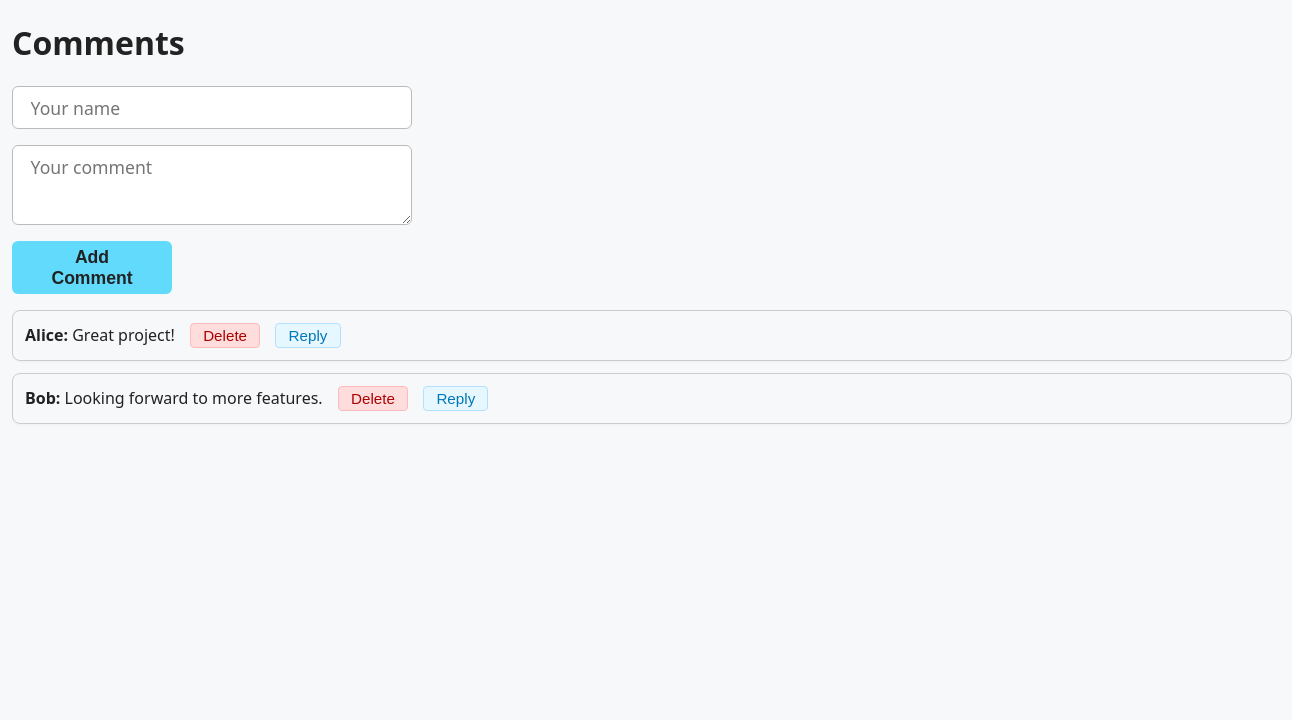
Scenario: allows a user to write a reply to a comment
The width and height of the screenshot is (1292, 720).
Click the button "Reply" in the row of "Alice" at point(308, 336), box [275,323,341,348]
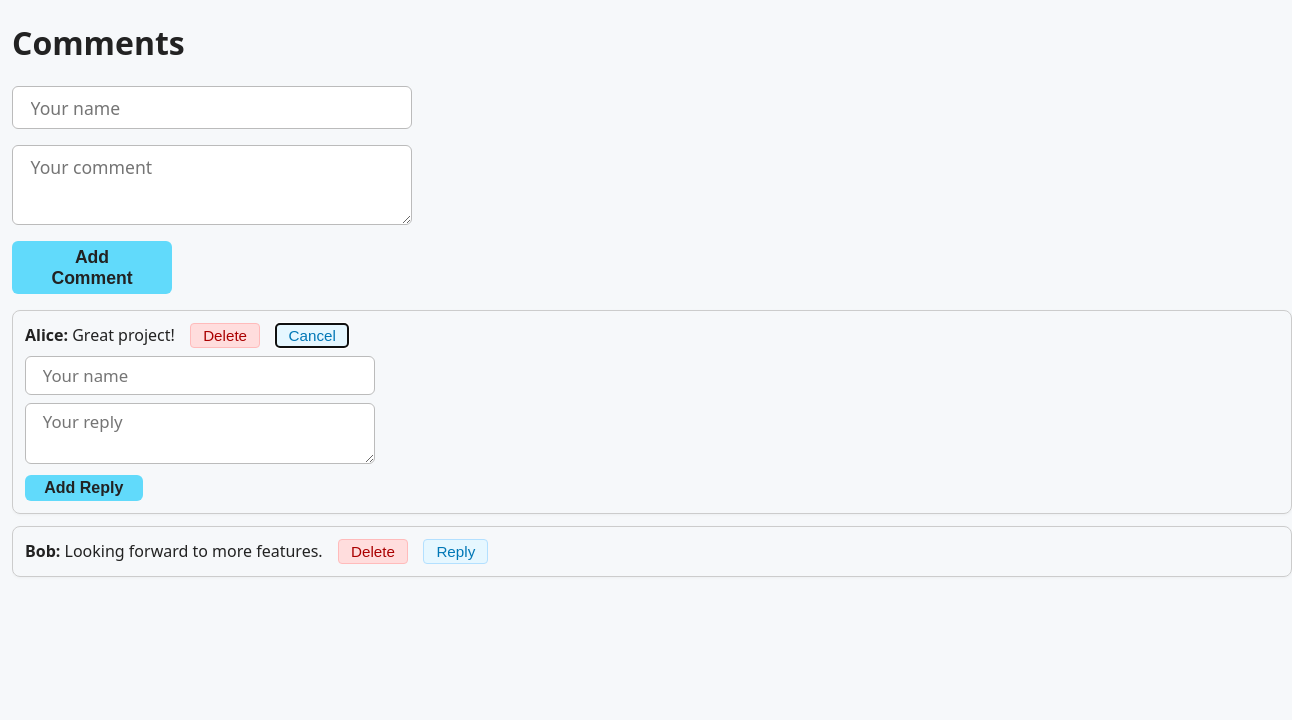
Type "Dora" into the field with placeholder "Your name" below "Alice" at point(200, 375), box [25,356,375,394]
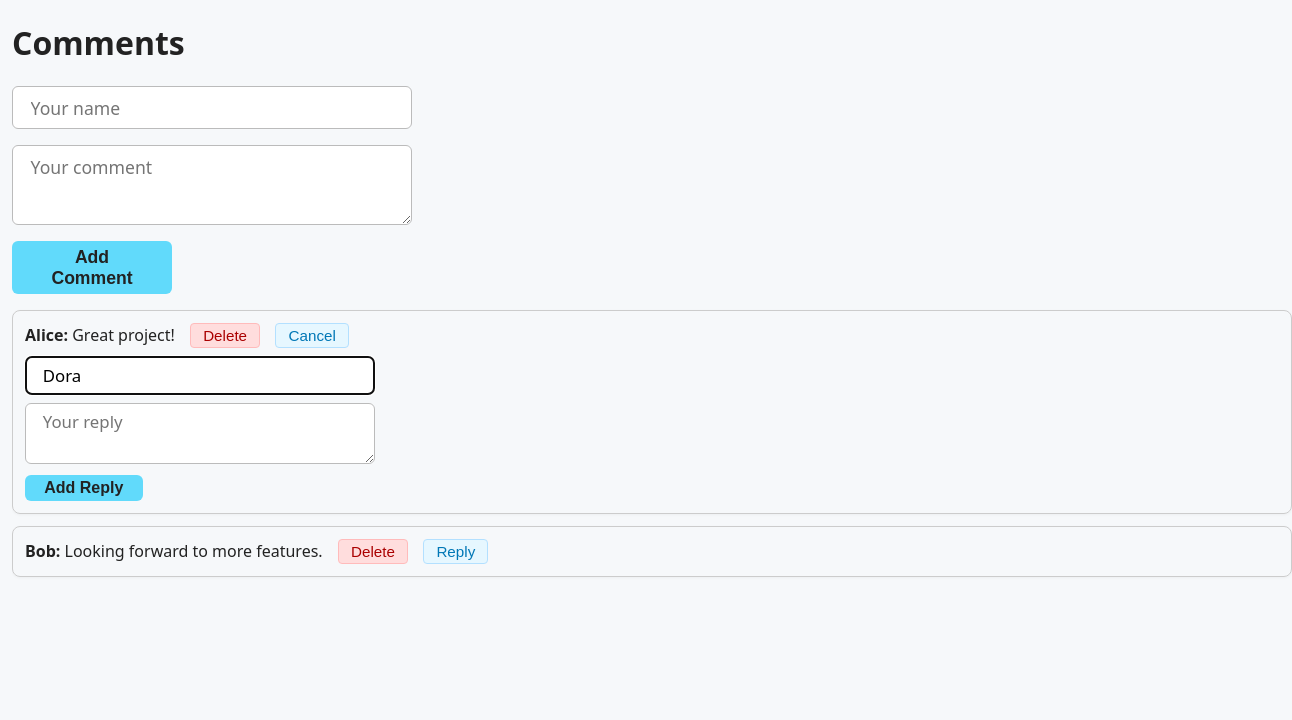
Type "This is a reply." into the text box with placeholder "Your reply" at point(200, 433), box [25,402,375,464]
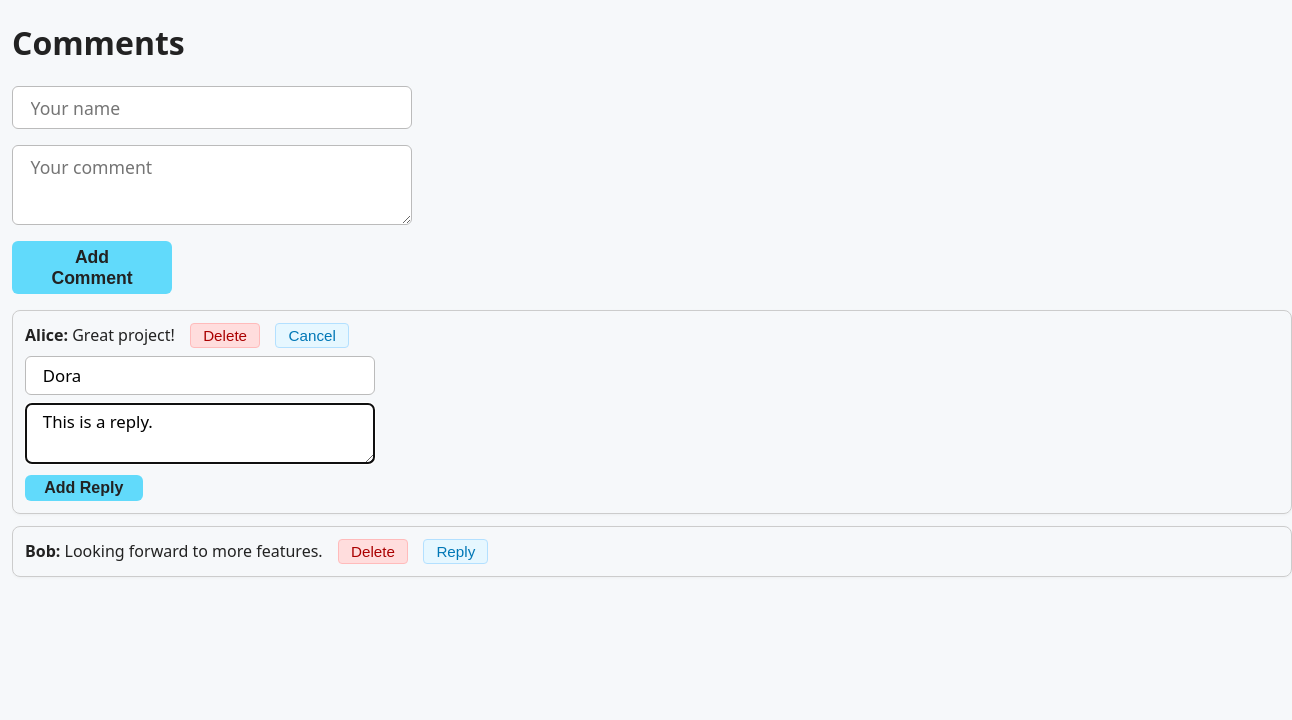
Click the button "Add Reply" at point(84, 488), box [25,475,142,501]
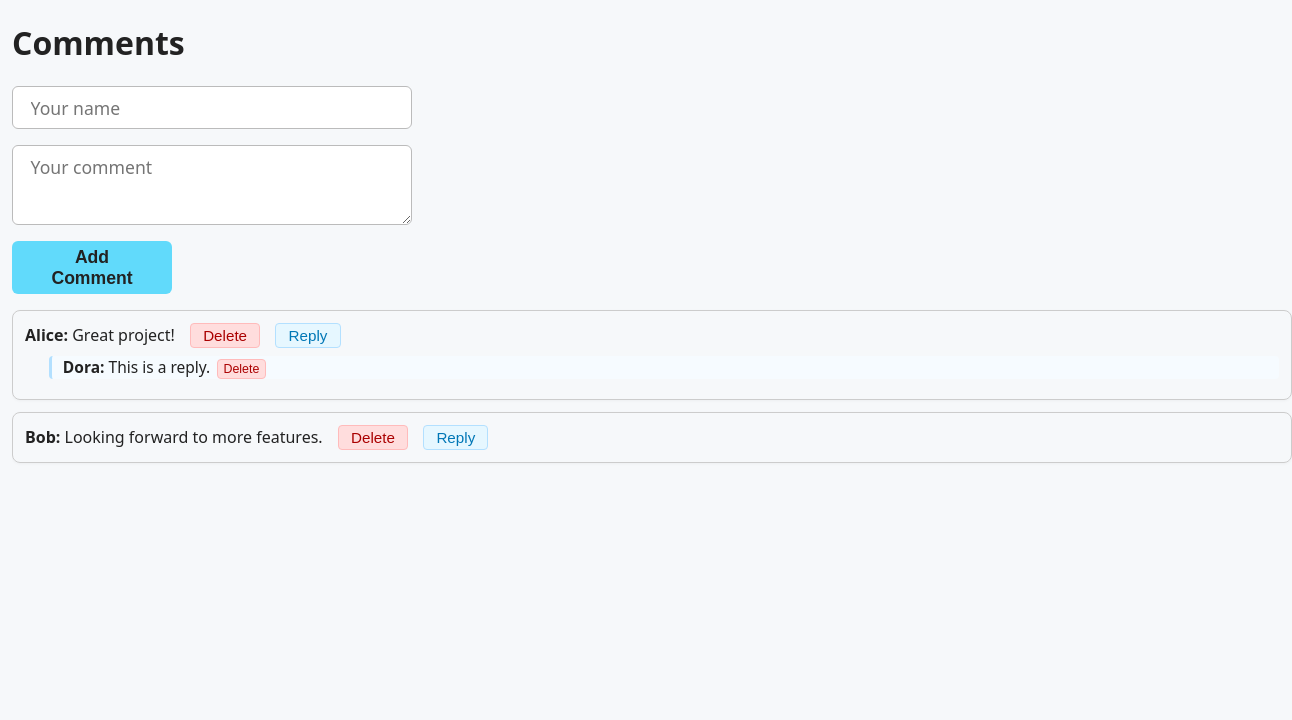
Check: the text "Dora:" is shown, box [63,356,104,378]
Check: the list item "This is a reply." is shown, box [108,356,210,378]
